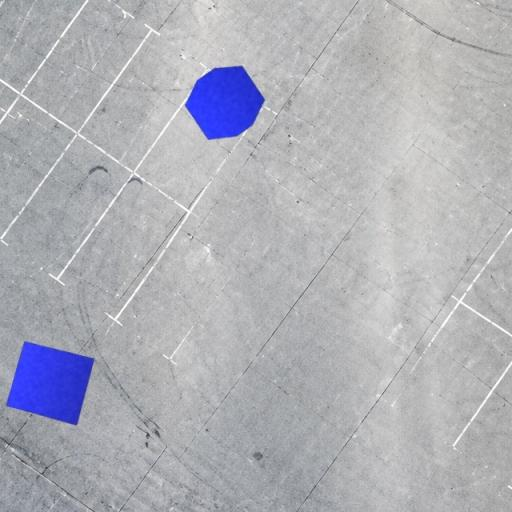BLUE_SQUARE: (6, 341, 95, 426)
